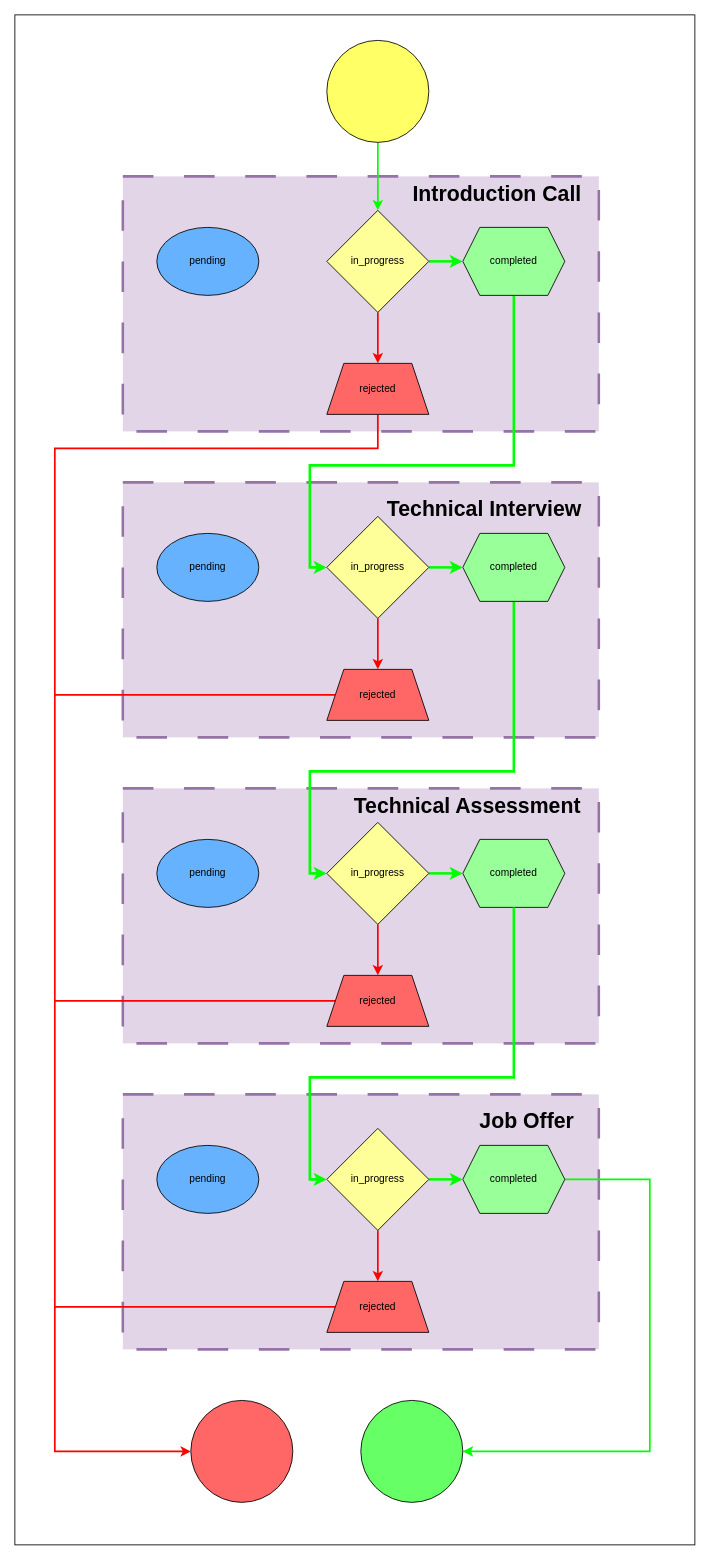
The diagram is 710 pixels wide and 1560 high, and some of its shapes have lost their labels. Each missing label, with the box of its shape:
Hiring completed: (360, 1400, 463, 1502)
Hiring in_progress: (326, 40, 429, 142)
Hiring rejected: (190, 1400, 293, 1502)
